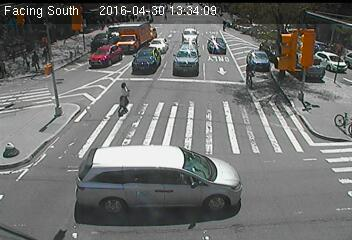neg: (175, 156, 197, 185), (240, 61, 260, 89), (33, 105, 53, 132), (323, 102, 340, 124), (209, 35, 225, 56), (316, 56, 331, 76), (304, 95, 318, 112), (173, 1, 187, 18), (116, 15, 129, 33), (25, 166, 38, 183), (52, 73, 65, 90), (4, 95, 16, 111), (243, 3, 255, 19), (66, 33, 77, 48), (57, 223, 67, 237), (220, 63, 228, 75), (82, 22, 90, 33)
pos: (112, 81, 136, 113), (27, 50, 43, 72), (220, 19, 230, 32)
